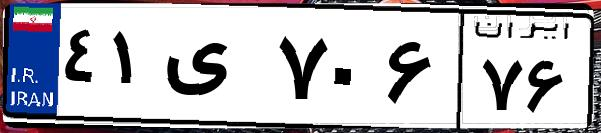0: (330, 28, 385, 110)
1: (110, 28, 158, 98)
4: (57, 26, 110, 100)
6: (385, 28, 445, 110), (525, 38, 570, 115)
7: (270, 28, 330, 110), (475, 38, 525, 113)
ی: (158, 20, 270, 120)
